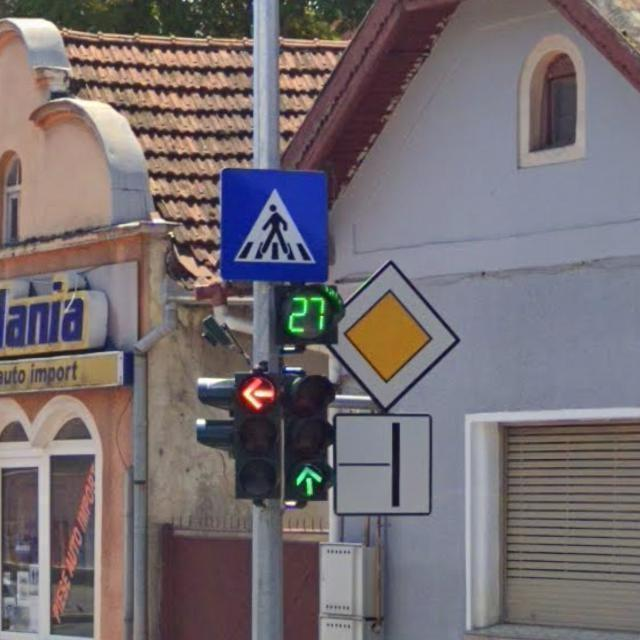info_crosswalk: (218, 166, 330, 282)
